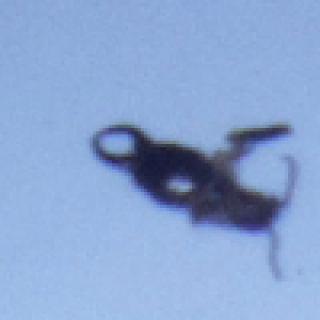earwig: (87, 115, 301, 287)
